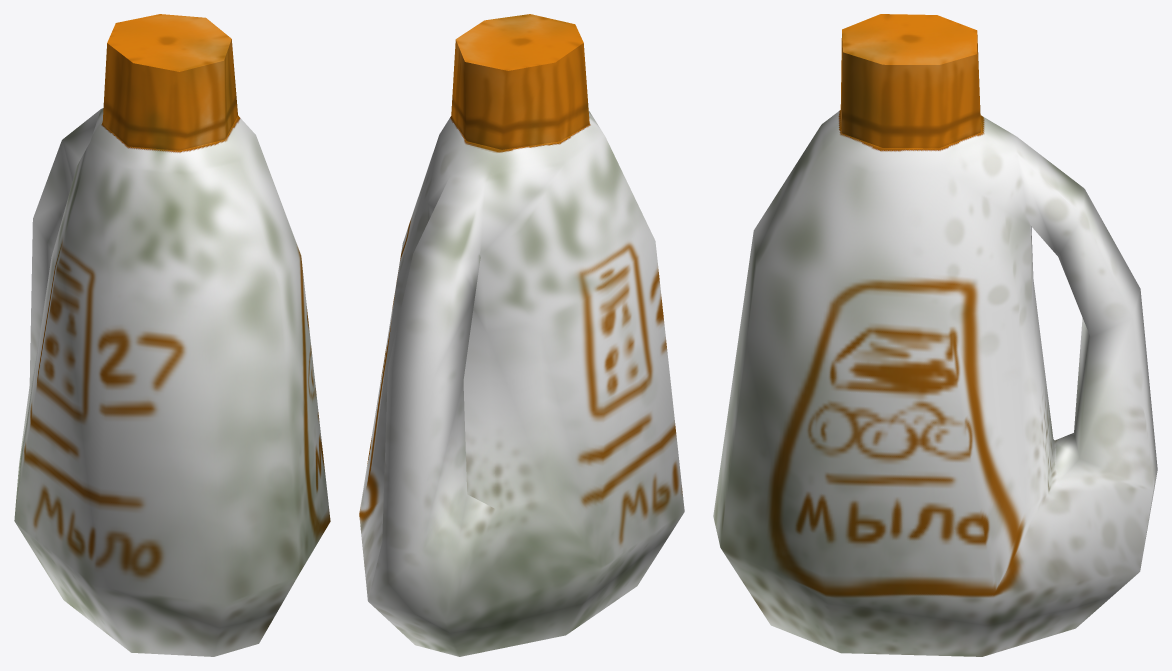
File: soap.glb
3 views of the same model, side by side, from view 1: azimuth 30°, elevation 25°; view 2: azimuth 150°, elevation 25°; view 3: azimuth 270°, elevation 25° (orthographic). The views are drawn at different scales.
Visible parts, largest first — view 1: laundrysoap; view 2: laundrysoap; view 3: laundrysoap.
Part boxes in pixels (left/top/right/bottom): laundrysoap: left=14, top=14, right=330, bottom=656; laundrysoap: left=359, top=14, right=684, bottom=656; laundrysoap: left=713, top=14, right=1157, bottom=656.
Size of the model in its own units: 0.4722 by 1.05 by 0.728.
Materials: 1 (1 with a texture image).
